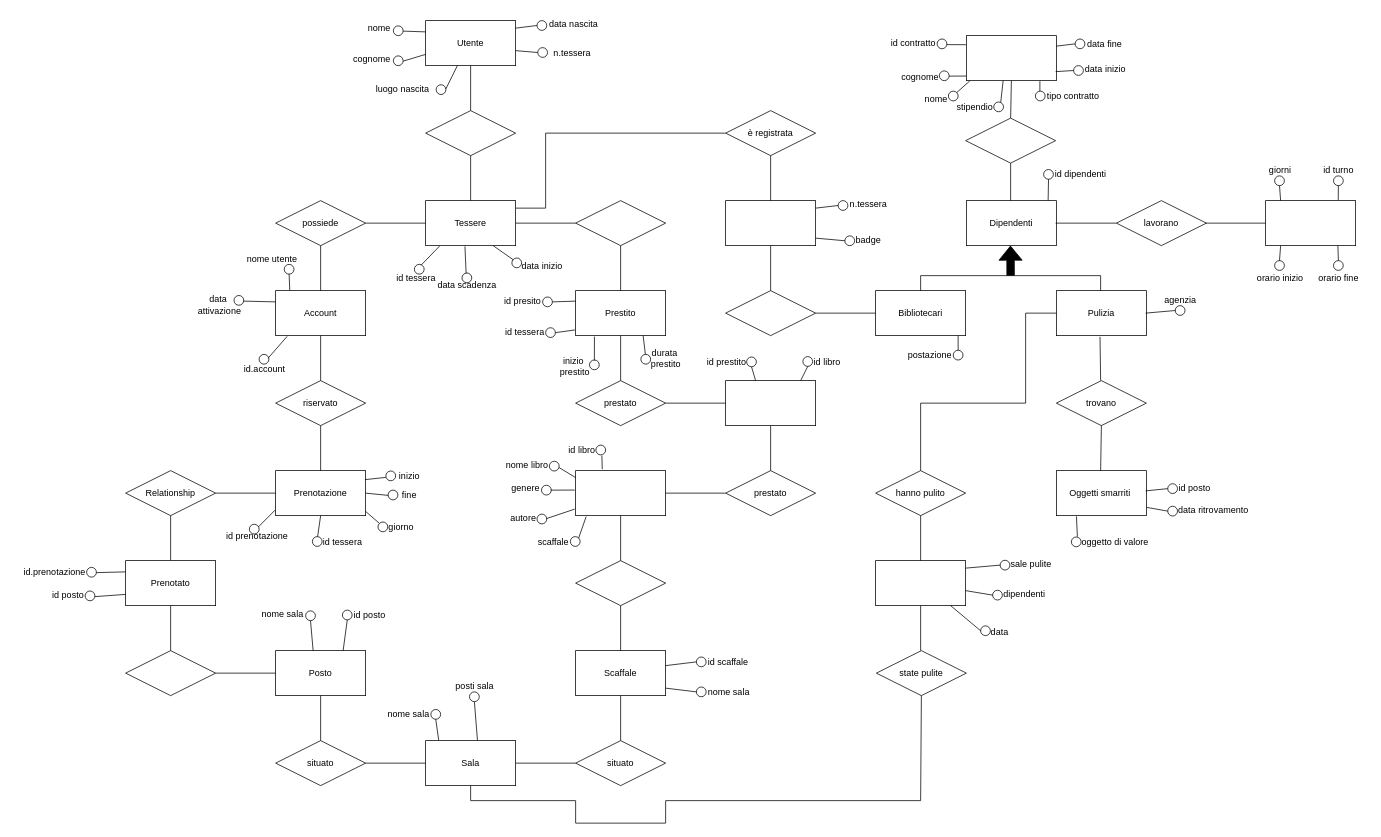
The diagram is 1381 pixels wide and 837 high, and some of its shapes have lost their labels. Each missing label, with the centre of its shape:
assunzione: point (1010, 140)
Contratto: point (1011, 58)
Iscrizione: point (770, 223)
LIbro: point (620, 493)
occupa: point (170, 673)
registra: point (770, 313)
Registro prestiti: point (770, 403)
Registro pulizie: point (920, 583)
richiede: point (620, 223)
riposto: point (620, 583)
Turni: point (1310, 223)
è tesserato: point (470, 133)
